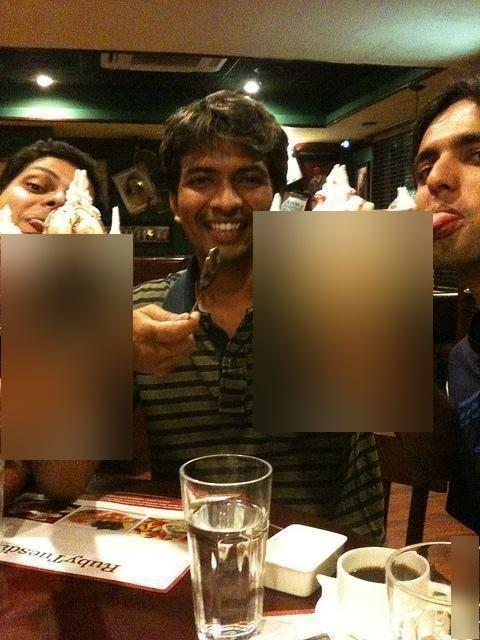cup-handle: (334, 542, 451, 636)
glass-normal: (177, 453, 276, 639)
